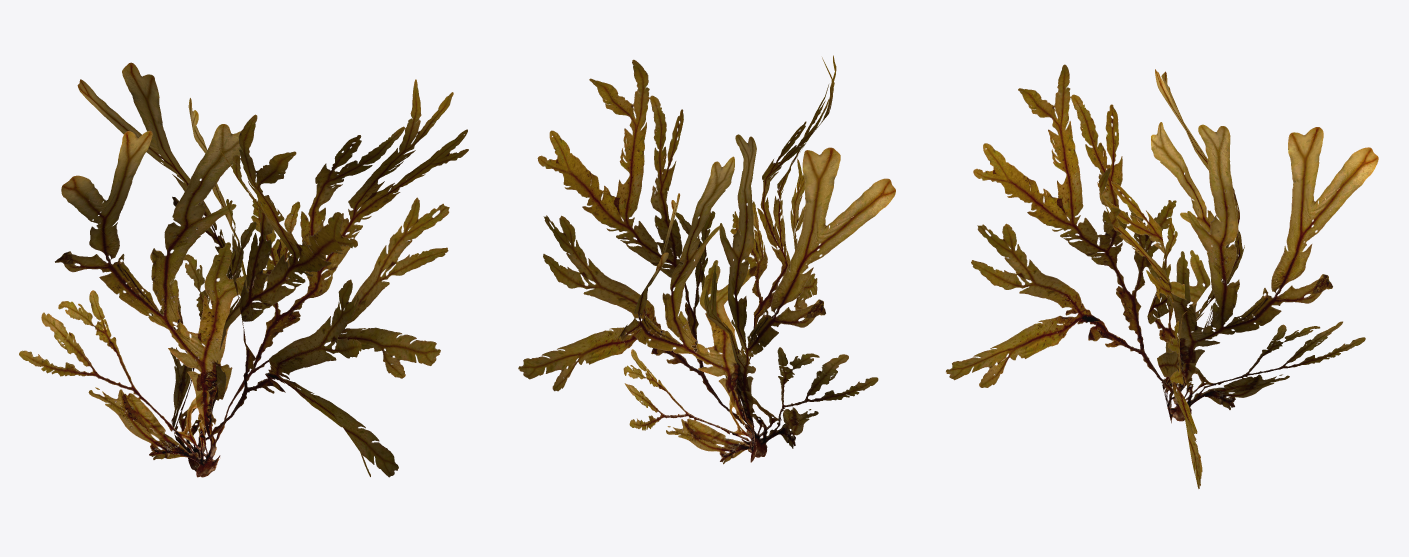
The model's file is algue_01.fbx.
The picture shows the model from 3 angles, left to right: view 1: azimuth 30°, elevation 25°; view 2: azimuth 150°, elevation 25°; view 3: azimuth 270°, elevation 25°; orthographic projection. The views are drawn at different scales.
Visible parts, largest first — view 1: 2cdfe09edeebe688813e3a47e2c72c68 (1).003; view 2: 2cdfe09edeebe688813e3a47e2c72c68 (1).003; view 3: 2cdfe09edeebe688813e3a47e2c72c68 (1).003.
Part boxes in pixels (bbox=[...]): 2cdfe09edeebe688813e3a47e2c72c68 (1).003: bbox=[19, 62, 468, 477]; 2cdfe09edeebe688813e3a47e2c72c68 (1).003: bbox=[518, 55, 895, 464]; 2cdfe09edeebe688813e3a47e2c72c68 (1).003: bbox=[946, 64, 1378, 488].
Size of the model in its own units: 117 by 113 by 124.
